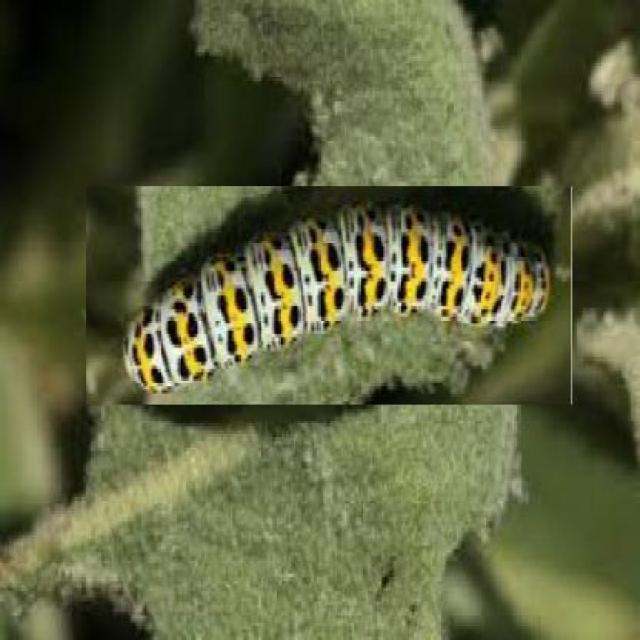Plaga: (86, 186, 573, 407)
